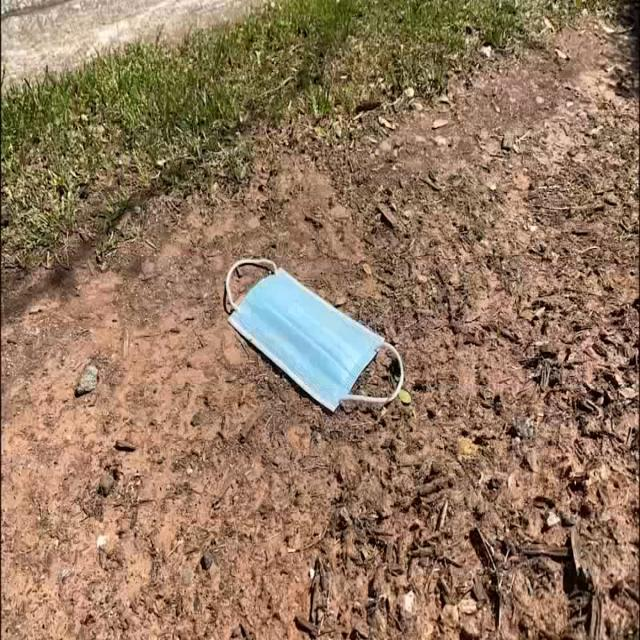face_mask: (238, 255, 388, 406)
